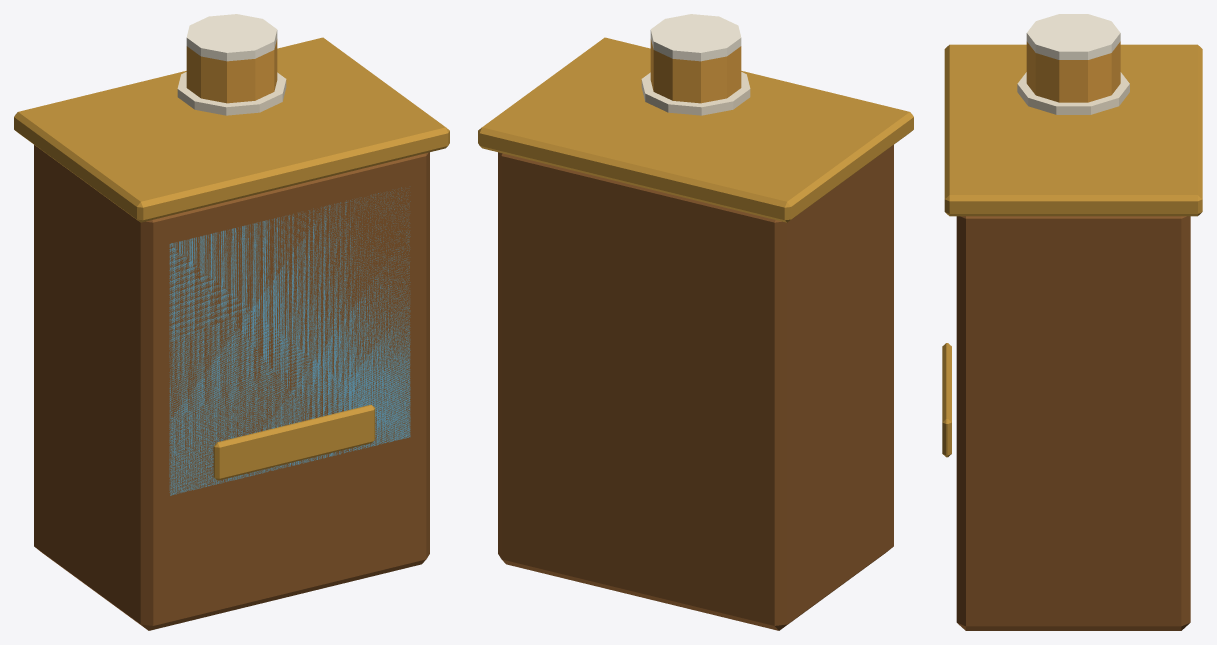
Rendered from PR_Station_Tatli_T2.fbx.
3 views of the same model, side by side, from view 1: azimuth 30°, elevation 25°; view 2: azimuth 150°, elevation 25°; view 3: azimuth 270°, elevation 25° (orthographic).
Visible parts, largest first — view 1: PR_Station_Tatli_T2; view 2: PR_Station_Tatli_T2; view 3: PR_Station_Tatli_T2.
Boxes of the visible parts, x1,y1,x2,y2 form: PR_Station_Tatli_T2: [14, 14, 449, 630]; PR_Station_Tatli_T2: [478, 14, 913, 630]; PR_Station_Tatli_T2: [942, 14, 1202, 630].
Size of the model in its own units: 0.78 by 1.25 by 0.555.
Materials: 1 (1 with a texture image).
